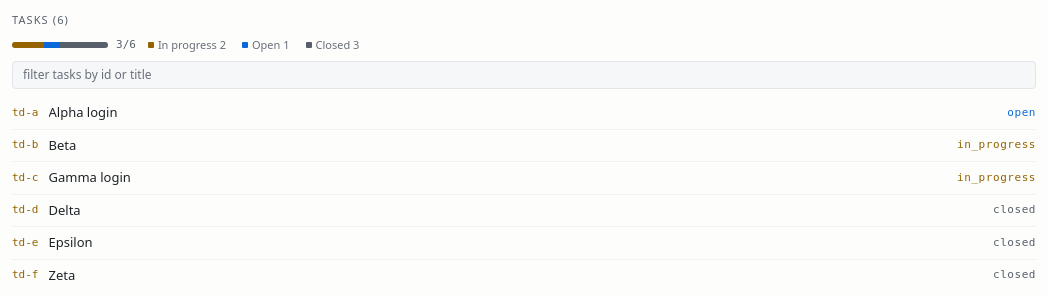
Test: RelatedIssues › status filter › combines with the text search
Click the button "In progress 2": [187, 45] box [144, 36, 230, 53]
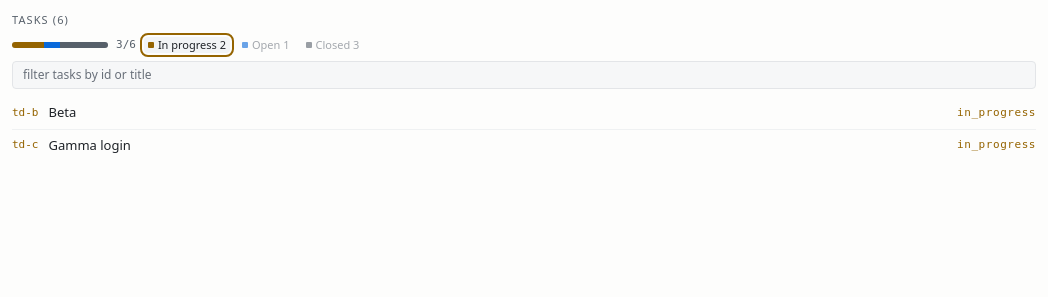
In the search field named "Search tasks": [524, 75] box [12, 61, 1036, 89], type "login"
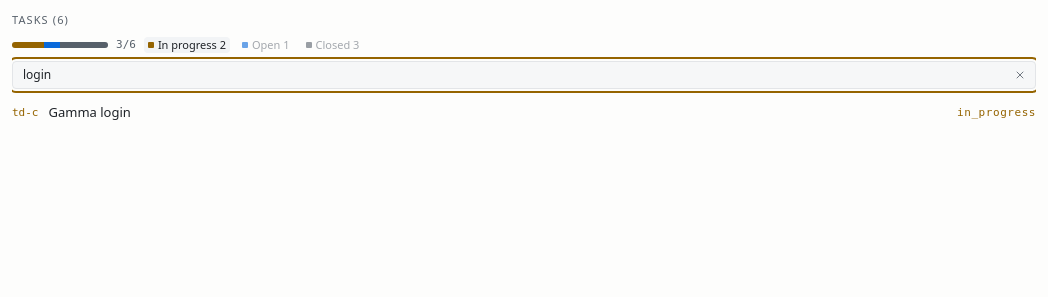
Replace the text in the search field named "Search tasks" with "beta": [524, 75] box [12, 61, 1036, 89]
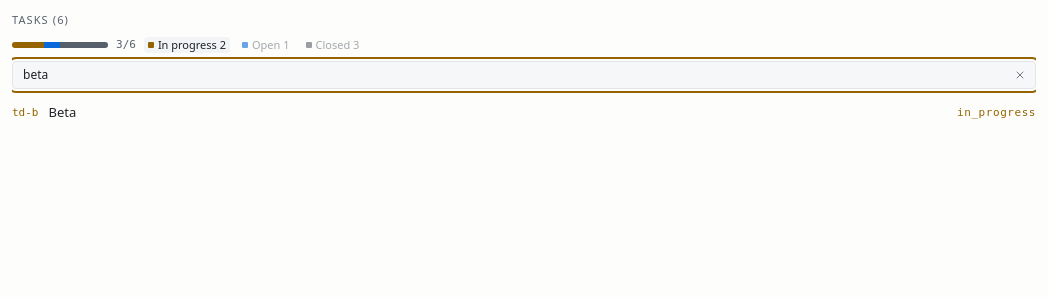
Click the button "In progress 2": [187, 45] box [144, 36, 230, 53]
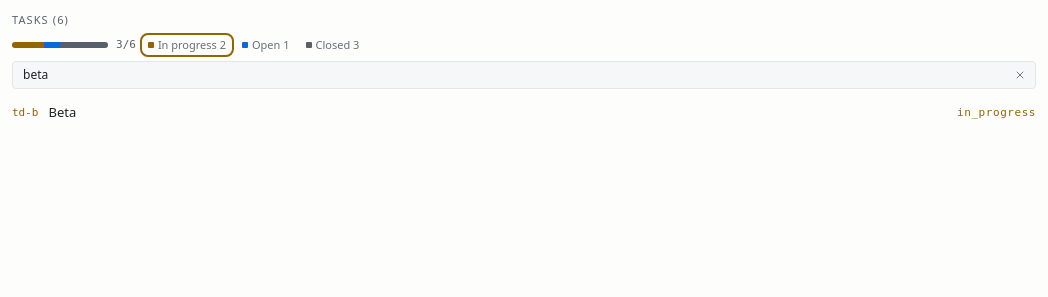
Click the button "Closed 3": [332, 45] box [302, 36, 363, 53]
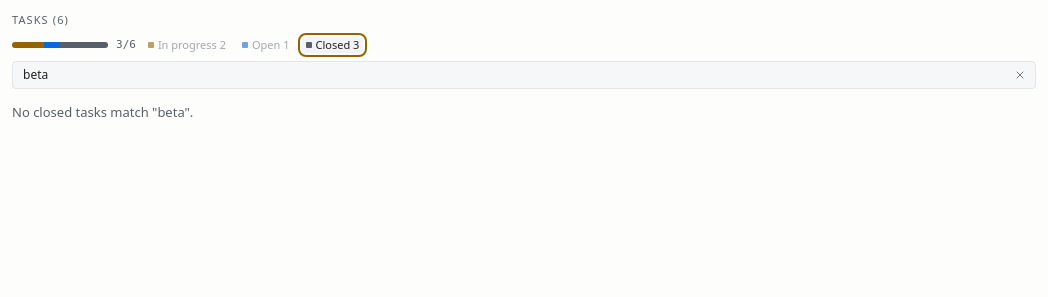
Check: the text "No closed tasks match \"beta\"." is shown, box [12, 103, 193, 121]
